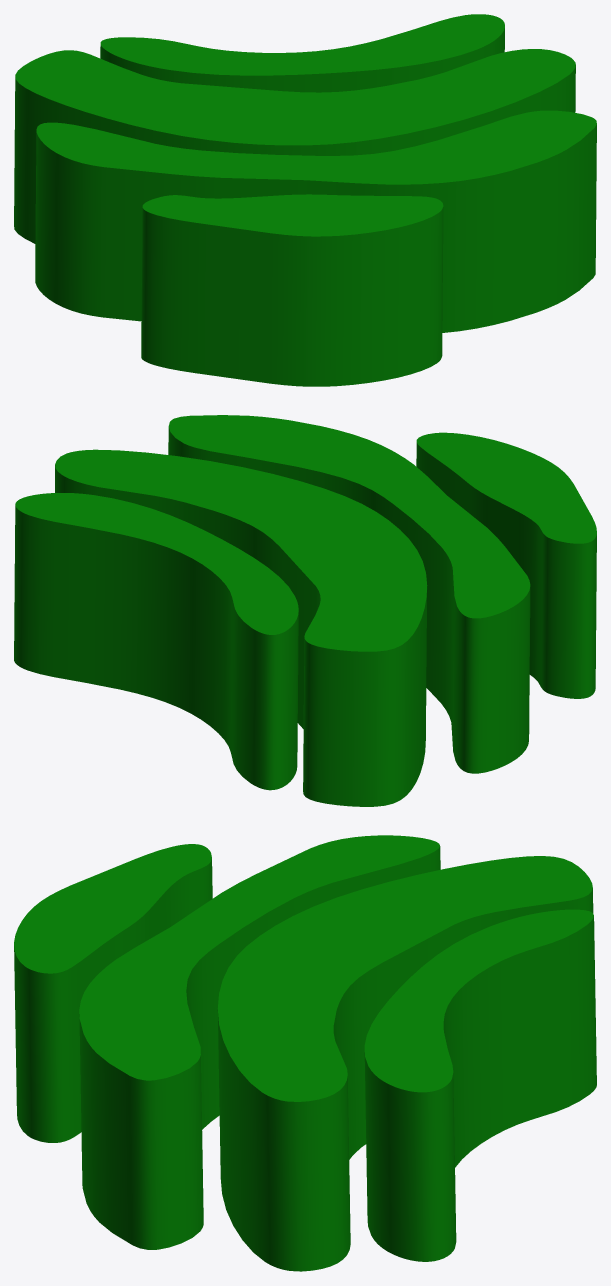
File: golgi.glb
The picture shows the model from 3 angles, top to bottom: view 1: azimuth 30°, elevation 25°; view 2: azimuth 150°, elevation 25°; view 3: azimuth 270°, elevation 25°; orthographic projection. The views are drawn at different scales.
Visible parts, largest first — view 1: Object_124; view 2: Object_124; view 3: Object_124.
Part boxes in pixels (box(x1,y1,x2,y2)): Object_124: box(14, 14, 596, 386); Object_124: box(14, 415, 596, 806); Object_124: box(14, 835, 596, 1271).
Bounding box in the file's own units: 6.02 × 1.88 × 5.59.
